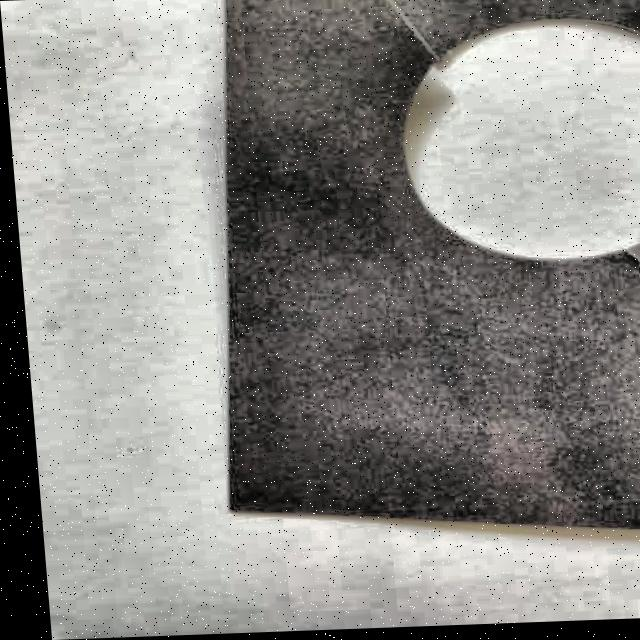paper: (180, 0, 640, 547)
